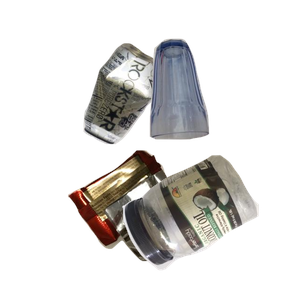glass: (147, 36, 300, 168)
metal: (81, 41, 234, 178)
plastic: (120, 152, 300, 300)
trash: (65, 148, 258, 300)
